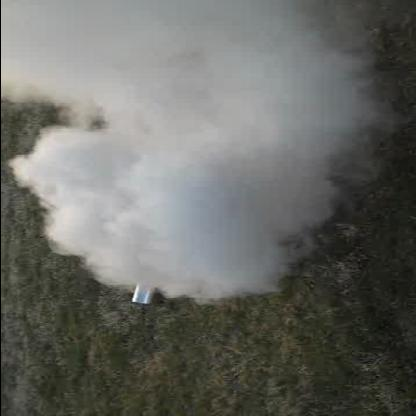Smoke: (13, 1, 393, 276)
